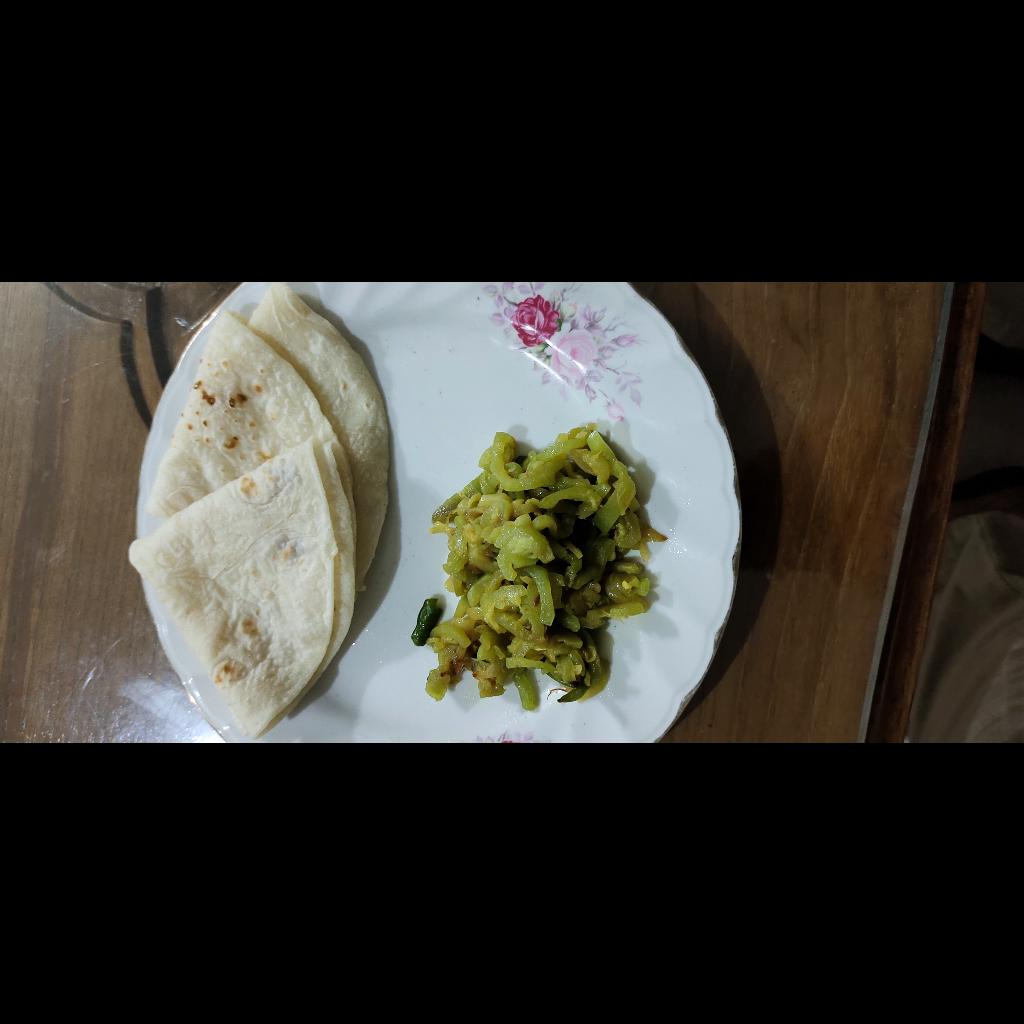chichinga-vaji: (33, 687, 323, 946)
ruti: (1, 399, 461, 670)
